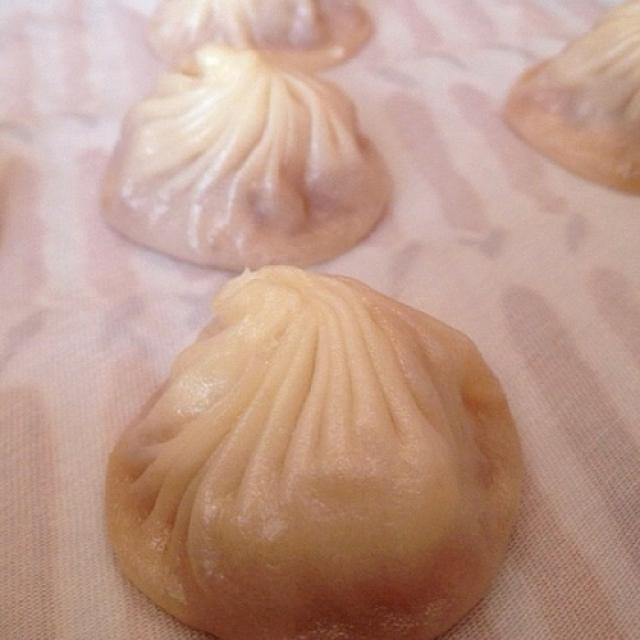带馅早点: (26, 18, 624, 613)
